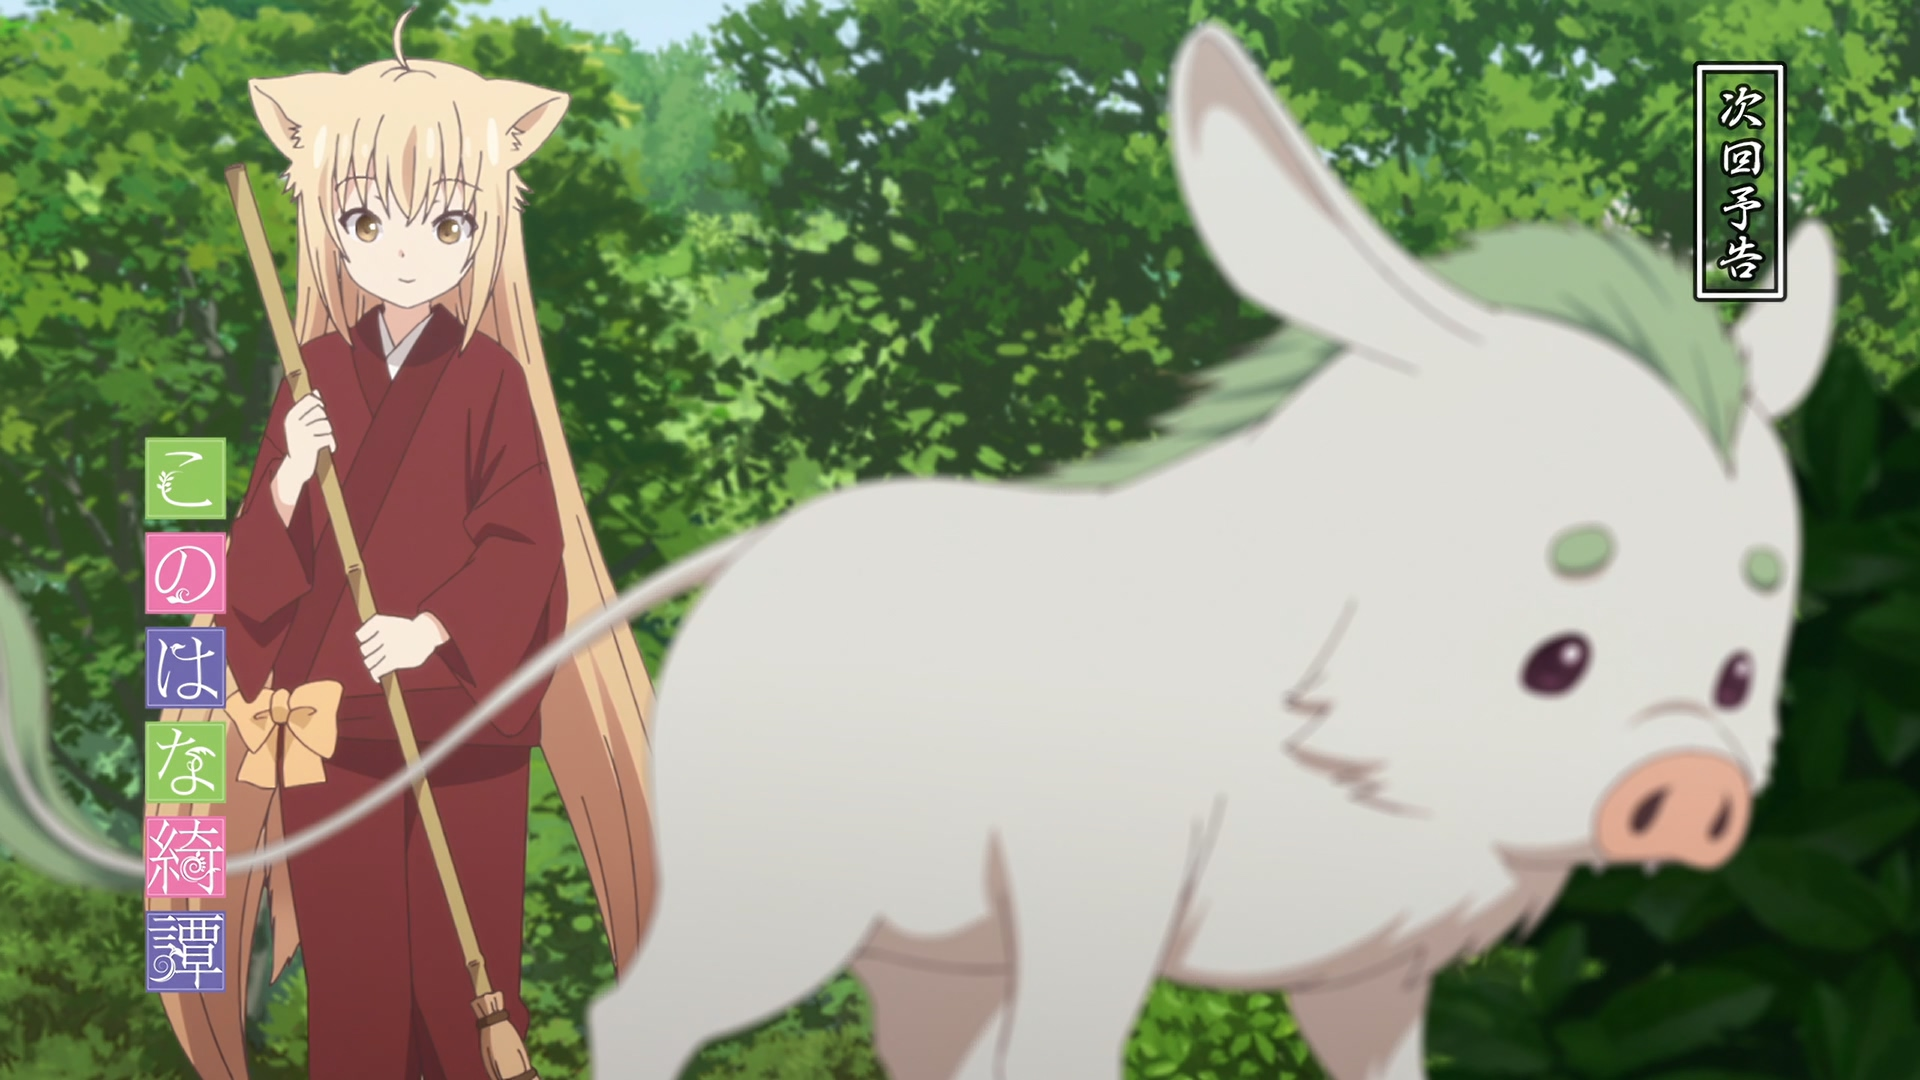柚: (148, 7, 662, 1080)
瓜之介: (1, 24, 1838, 1080)
